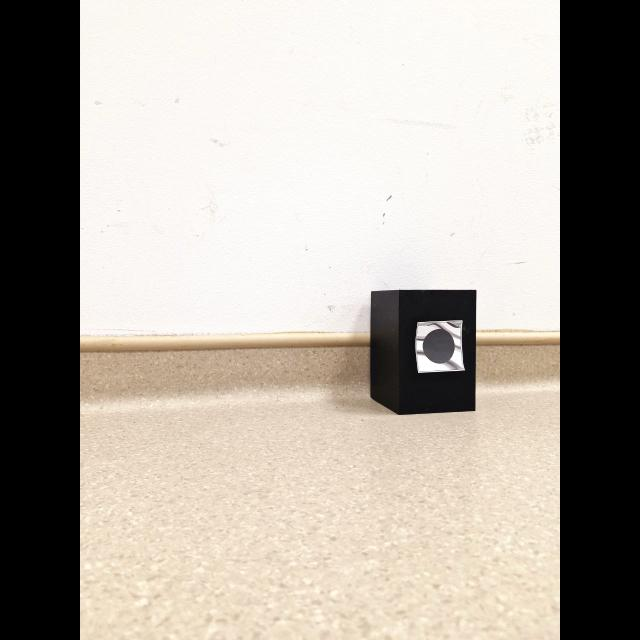CIRCLE: (422, 329, 455, 364)
